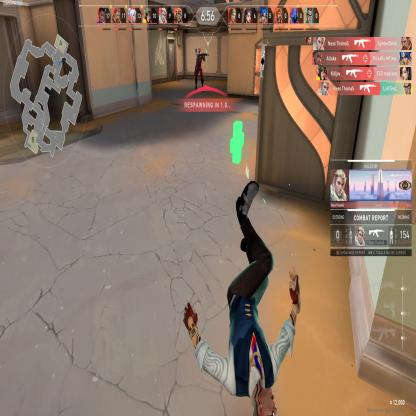enemy: (193, 44, 205, 86)
